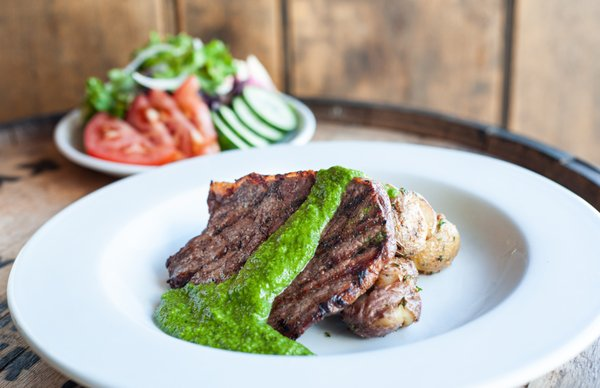curry: (154, 172, 352, 356)
